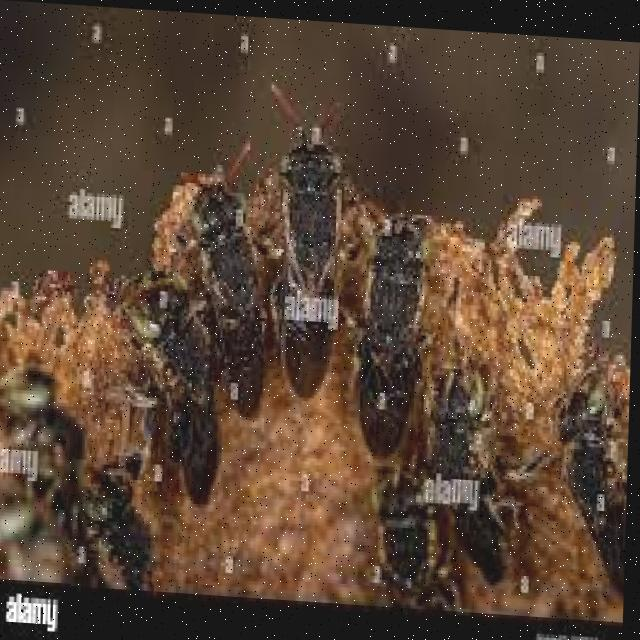Meliponula: (0, 362, 135, 605), (130, 253, 234, 517), (274, 89, 355, 411), (424, 328, 522, 587), (190, 165, 281, 419), (546, 344, 633, 606), (369, 197, 424, 472), (75, 440, 171, 590), (366, 441, 454, 601)
